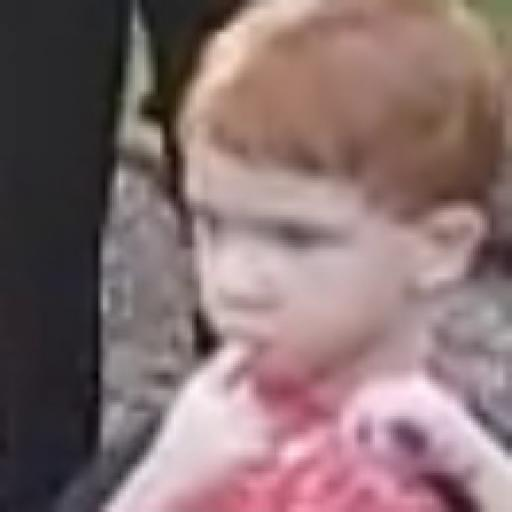Autism: (156, 4, 512, 436)
